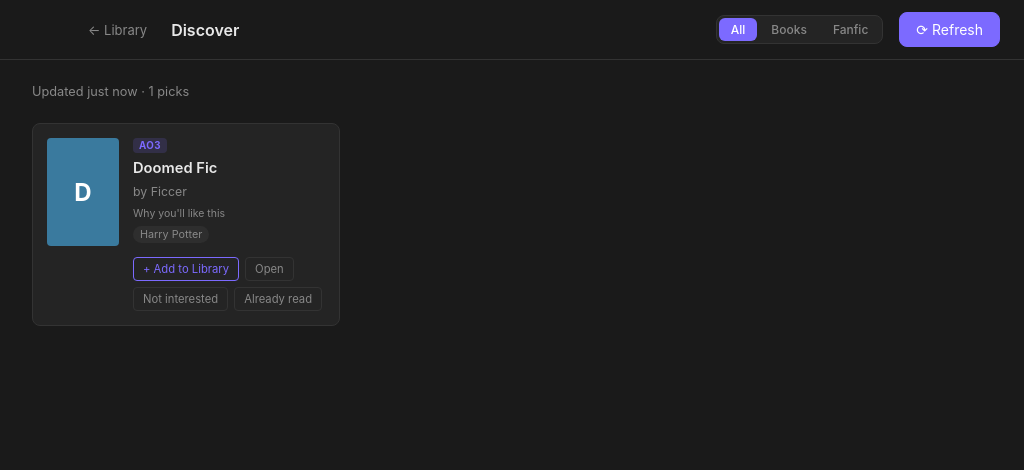
Test: DiscoverView › dismiss removes the card and tells the engine to exclude it
The image size is (1024, 470).
Check: the text "Doomed Fic" is shown, box [133, 159, 217, 177]
Click the button "Not interested" at (181, 299), box [133, 287, 228, 311]
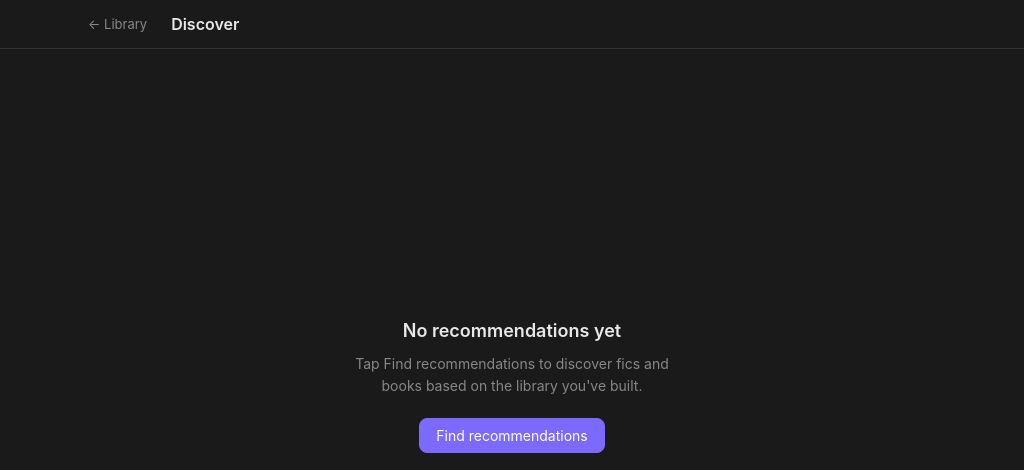
Check: the text "Doomed Fic" is gone
